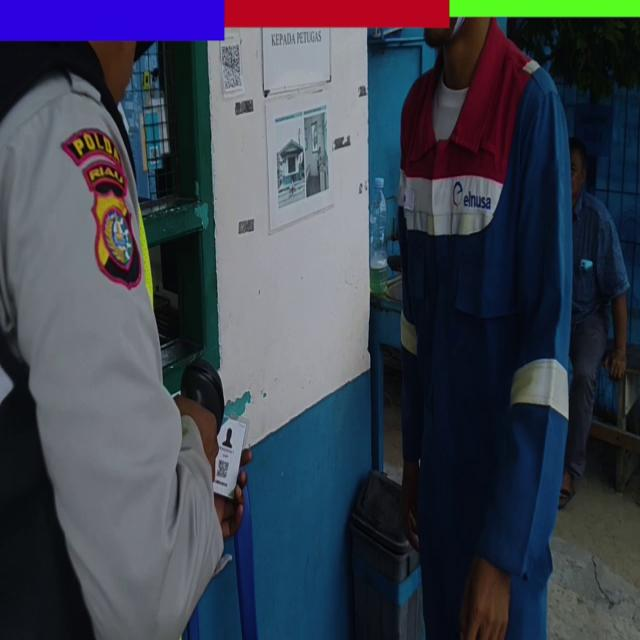No Glove: (462, 557, 511, 640)
No Overall Suit: (0, 60, 222, 639)
Overall Suit: (398, 28, 574, 640)
